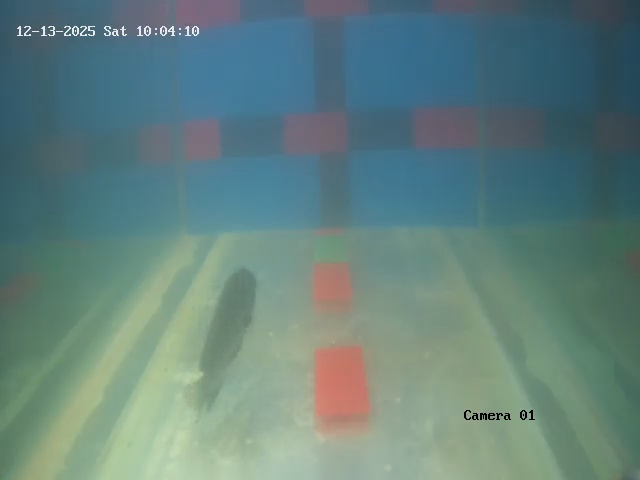fish: (204, 264, 258, 369)
